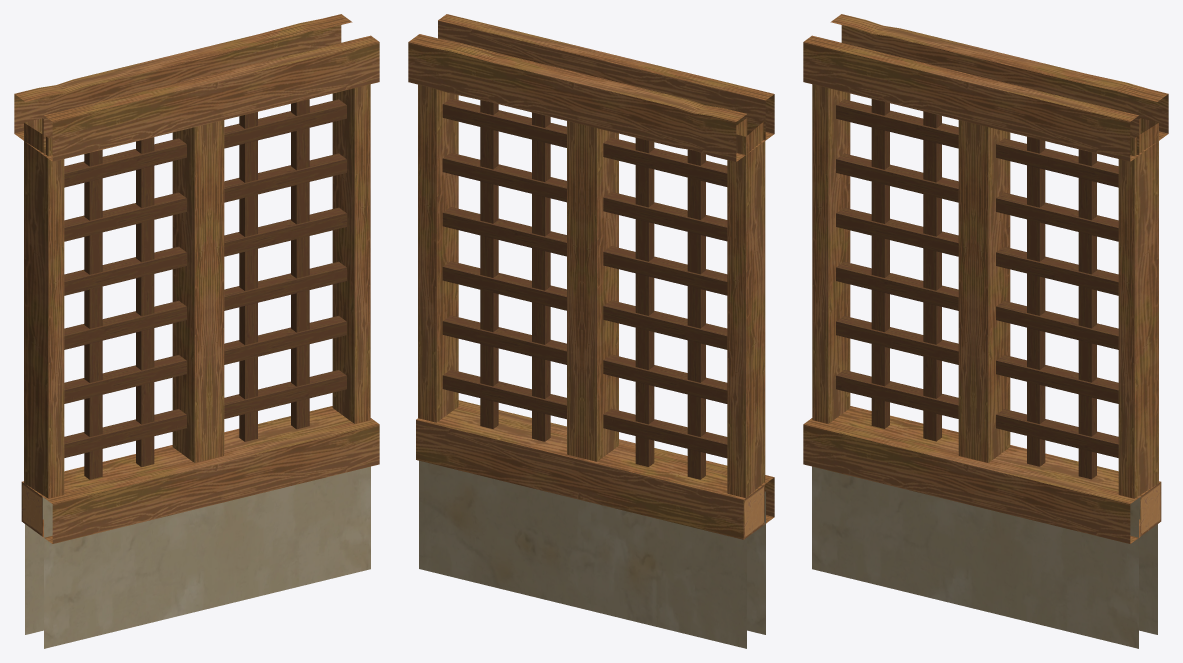
Rendered from Wall_Plaster_WoodGrid.glb.
3 views of the same model, side by side, from view 1: azimuth 30°, elevation 25°; view 2: azimuth 150°, elevation 25°; view 3: azimuth 330°, elevation 25° (orthographic).
Visible parts, largest first — view 1: Wall_Plaster_WoodGrid; view 2: Wall_Plaster_WoodGrid; view 3: Wall_Plaster_WoodGrid.
Boxes of the visible parts, x1,y1,x2,y2 form: Wall_Plaster_WoodGrid: (14, 14, 379, 648); Wall_Plaster_WoodGrid: (408, 14, 774, 648); Wall_Plaster_WoodGrid: (803, 14, 1168, 648).
Bounding box in the file's own units: 2 × 3.12 × 0.4064.
2 materials, 2 textured.
